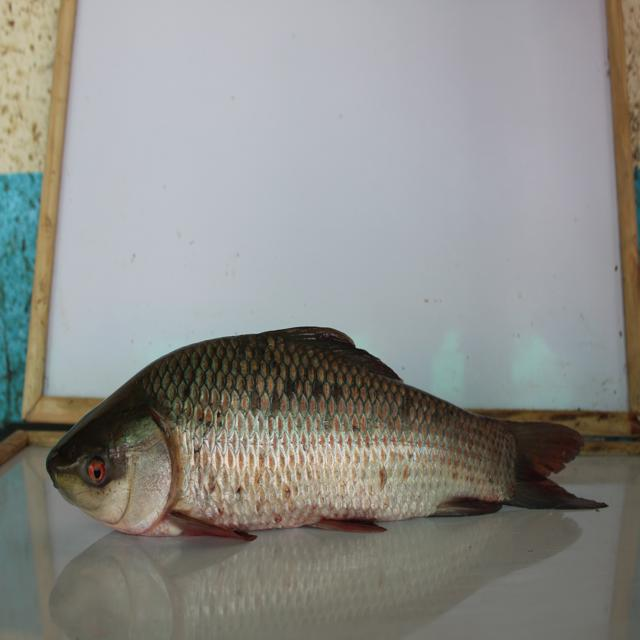Rohu: (51, 336, 602, 548)
